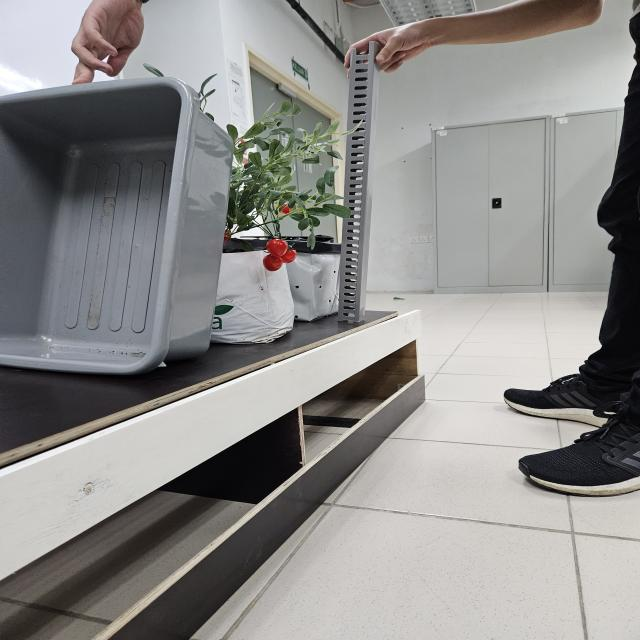Soilbag: (210, 249, 297, 345), (287, 242, 343, 324)
Tomato: (263, 238, 297, 272)
plant: (228, 105, 339, 234)
